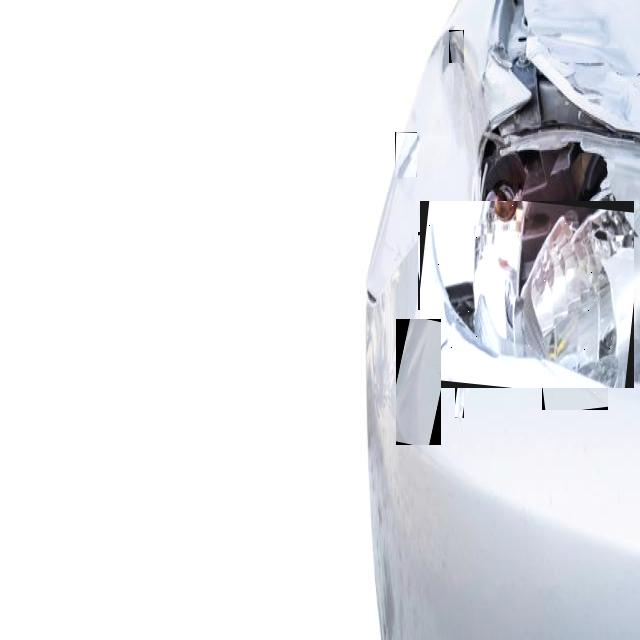Dent: (420, 201, 634, 388), (396, 319, 441, 445), (542, 350, 608, 410), (418, 232, 455, 310), (395, 132, 417, 177), (449, 30, 464, 63), (436, 342, 452, 372), (455, 378, 464, 418)
